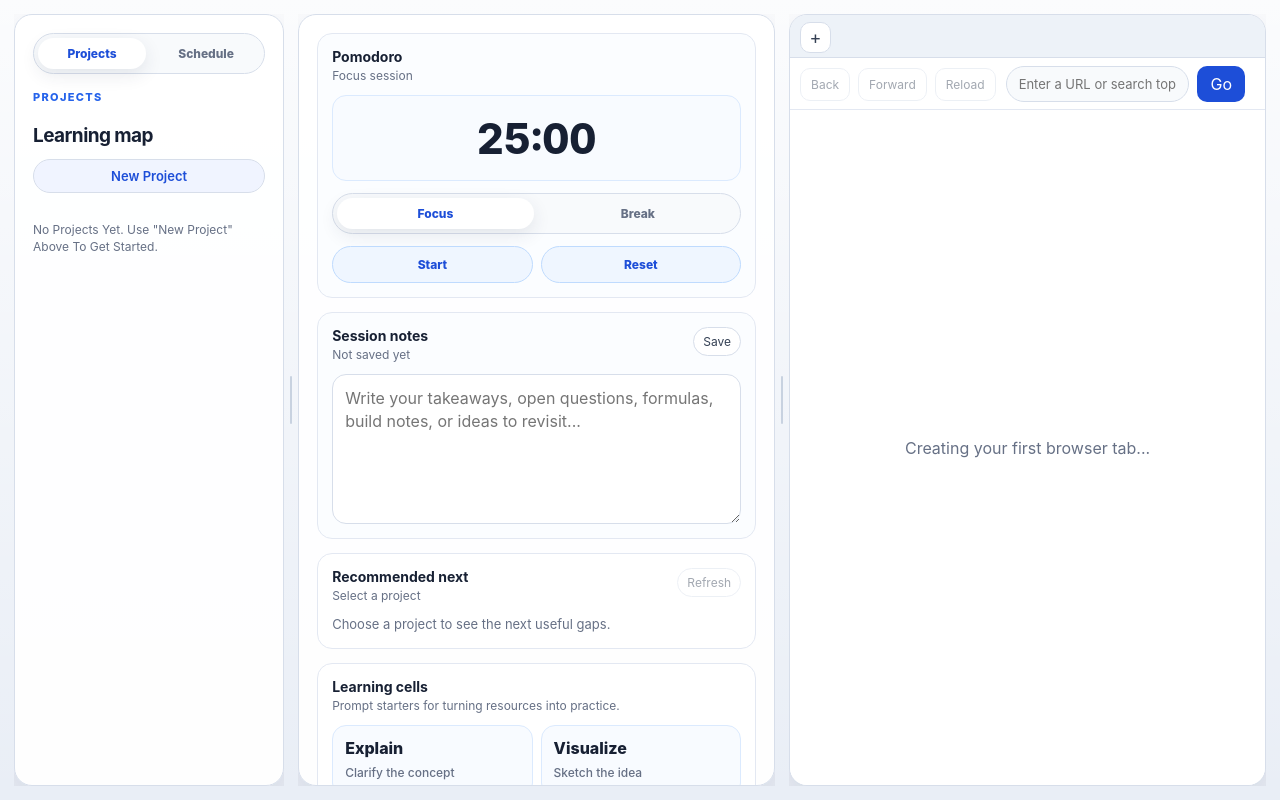
App › shows linked captured resources in the project tree and copies transcript text
The width and height of the screenshot is (1280, 800).
Click the button "New Project". click: [149, 176]
box: [33,159,265,193]
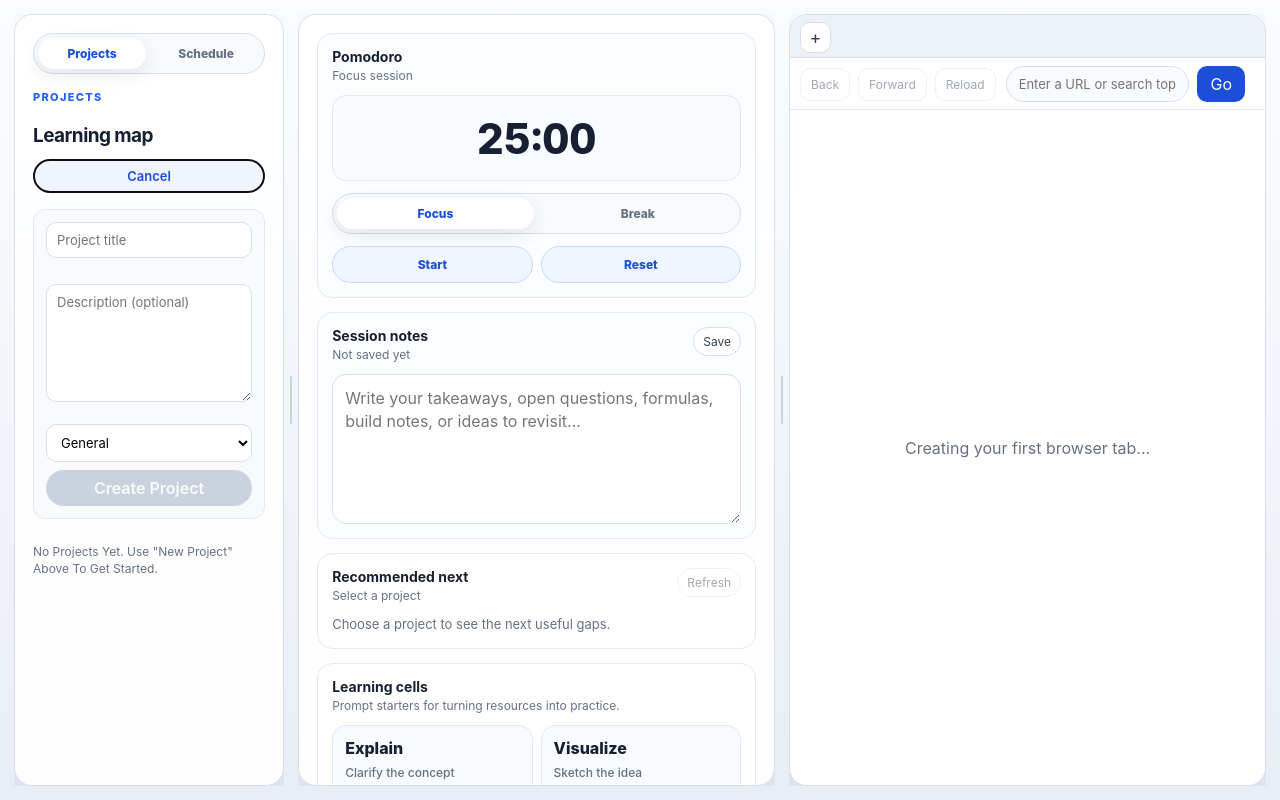
Type "Brake System Study" into the field with placeholder "Project title". click: [149, 240]
box: [46,222,252,258]
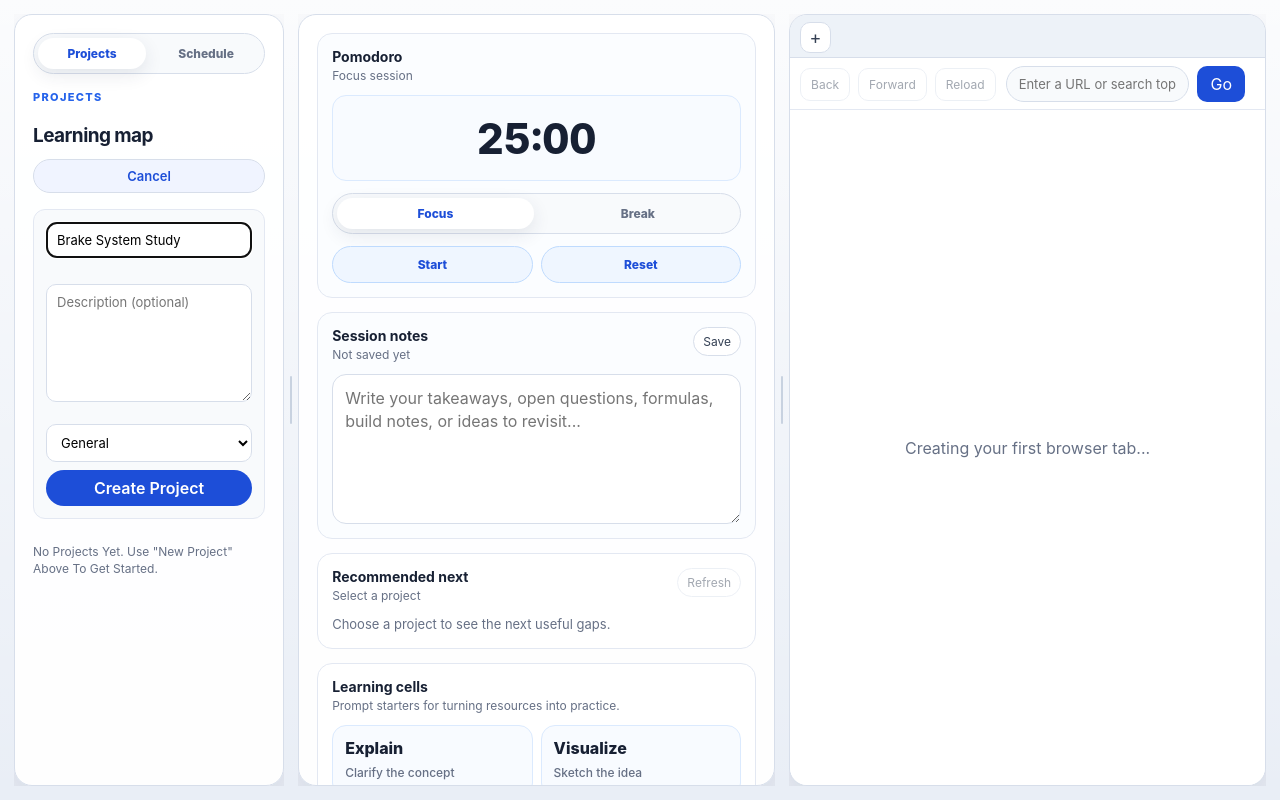
Click the button "Create Project". click: [149, 488]
box: [46,470,252,506]
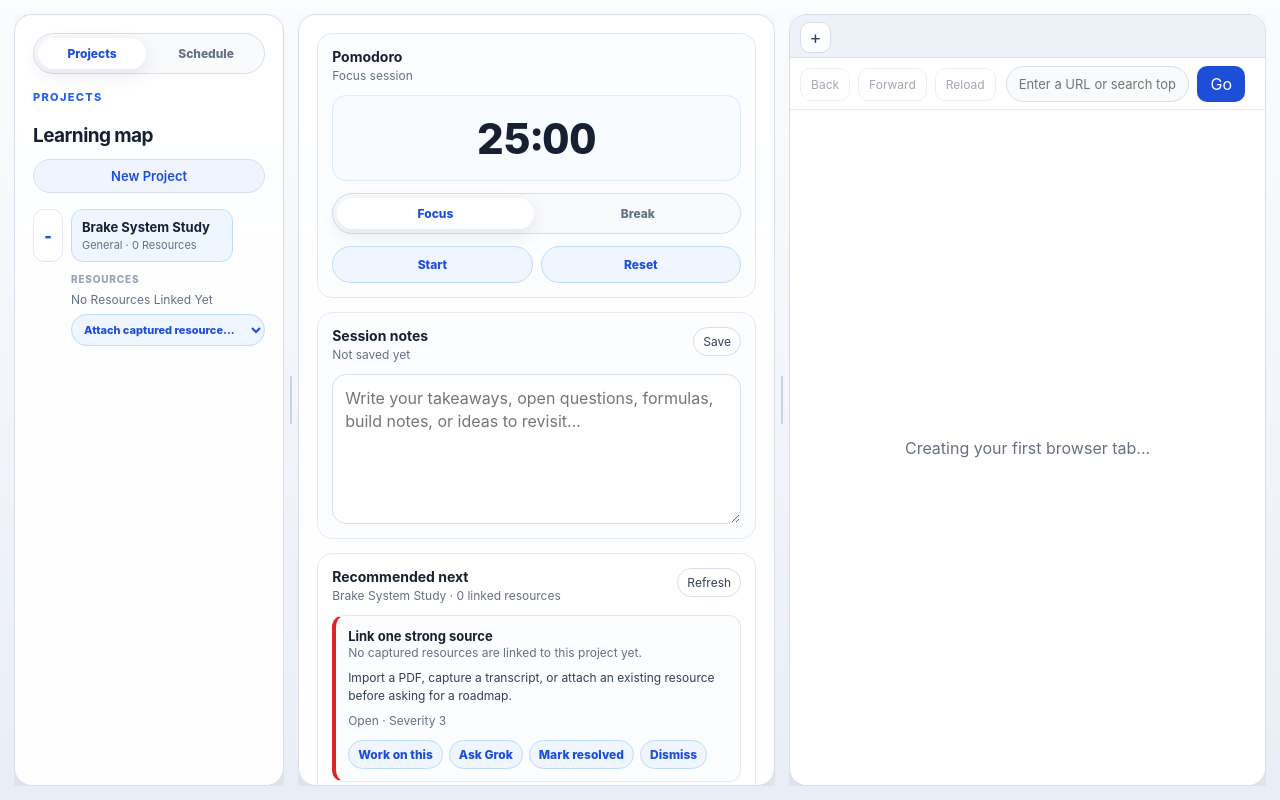
Select "Brake Bias Explained" in the dropdown named "Attach captured resource to Brake System Study". click: [168, 330]
box: [71,314,265,346]
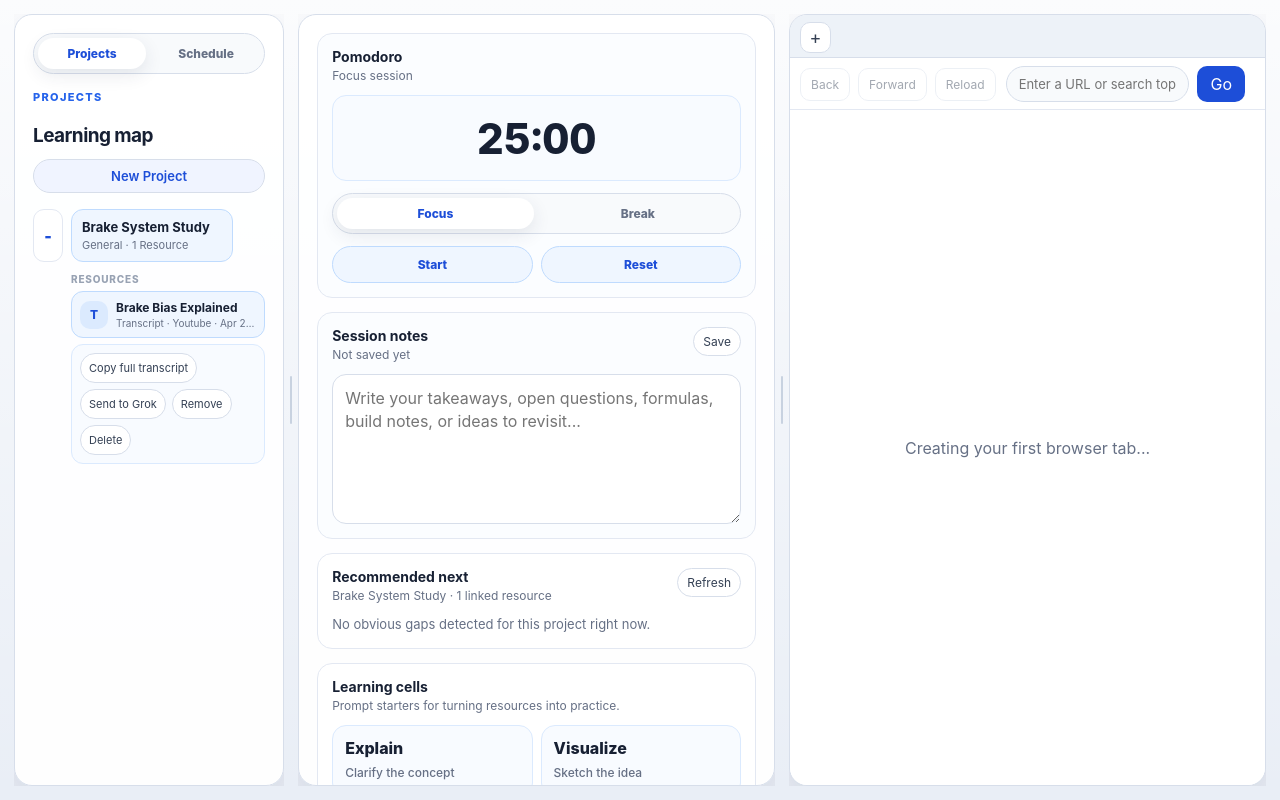
Now the text "Brake Bias Explained" is shown, box [116,300,256,315]
Now the text "captured resources" is gone
Click the button "Copy full transcript". click: [139, 368]
box: [80,353,197,383]
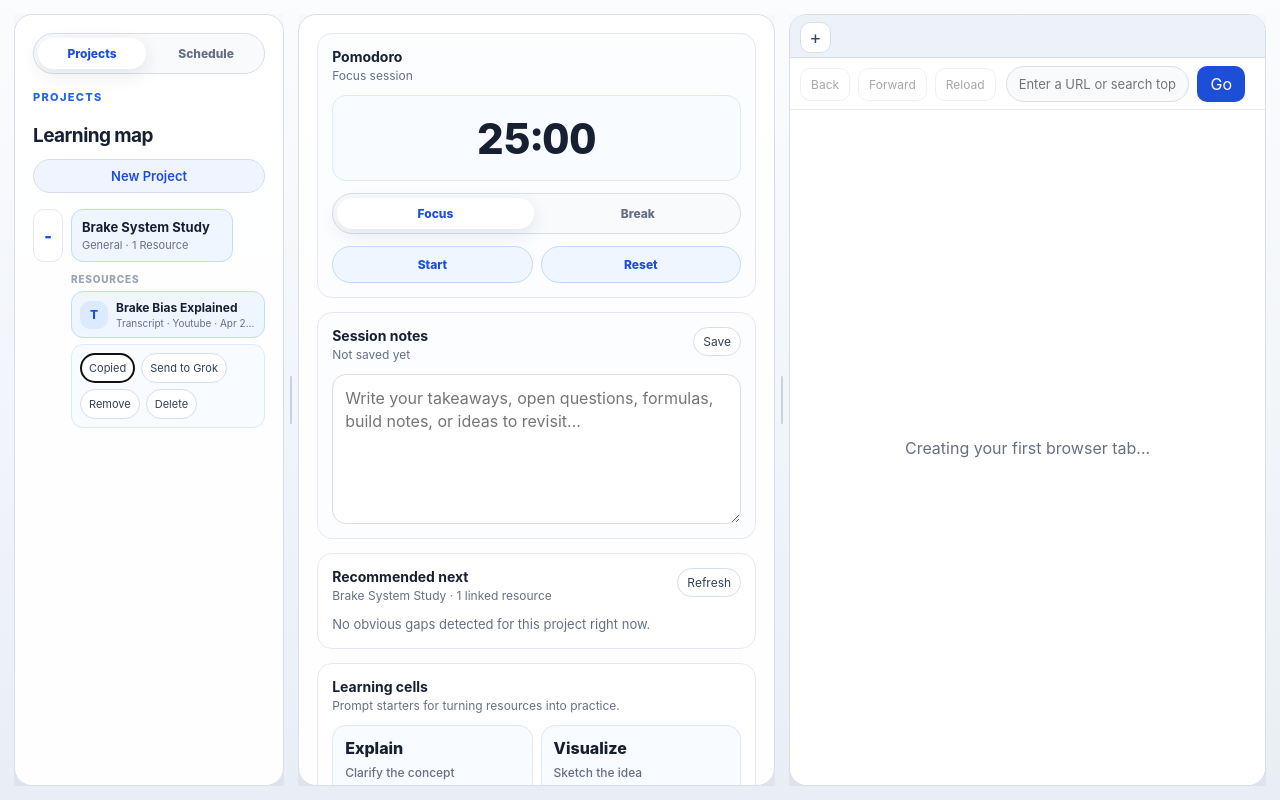
Now the button "Copied" is shown, box [80,353,135,383]
